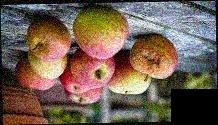rotten apple: (127, 31, 184, 82)
